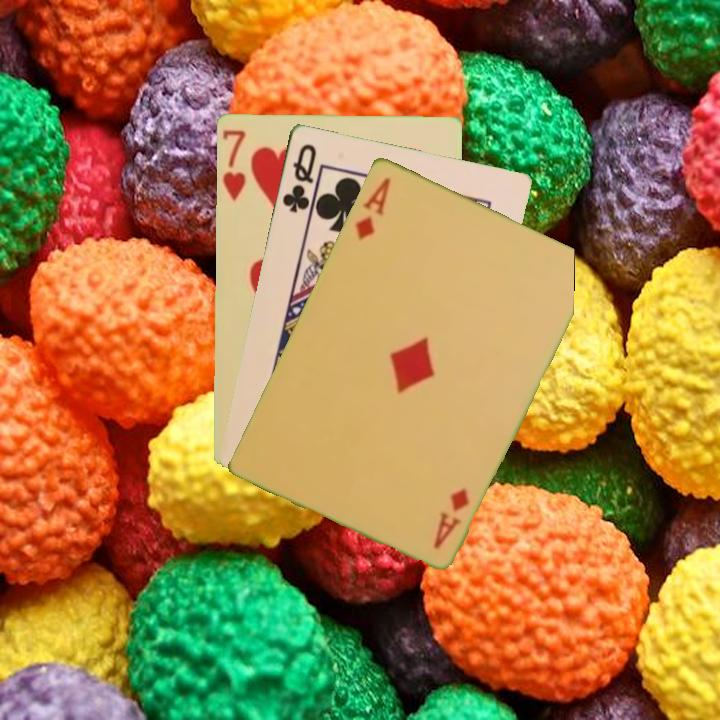7h: (218, 126, 248, 204)
Ad: (351, 173, 394, 243), (429, 483, 472, 552)
Qc: (278, 139, 319, 215)
